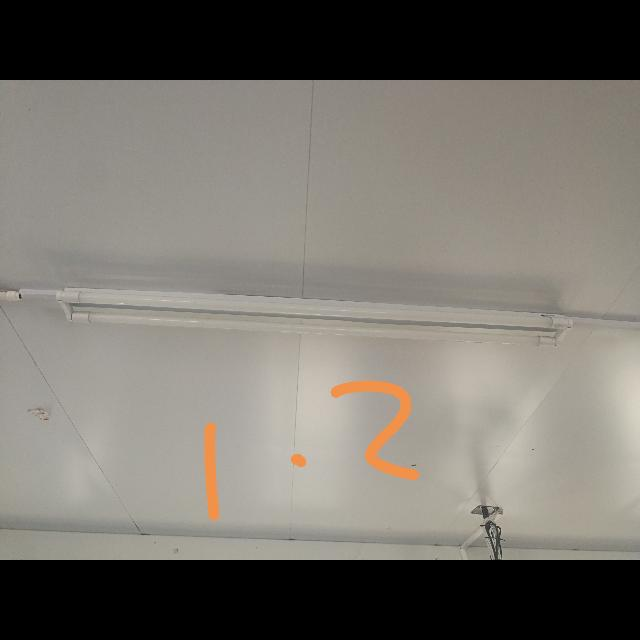Straight-Tube-Fluorescent-Lamp: (48, 274, 580, 362)
